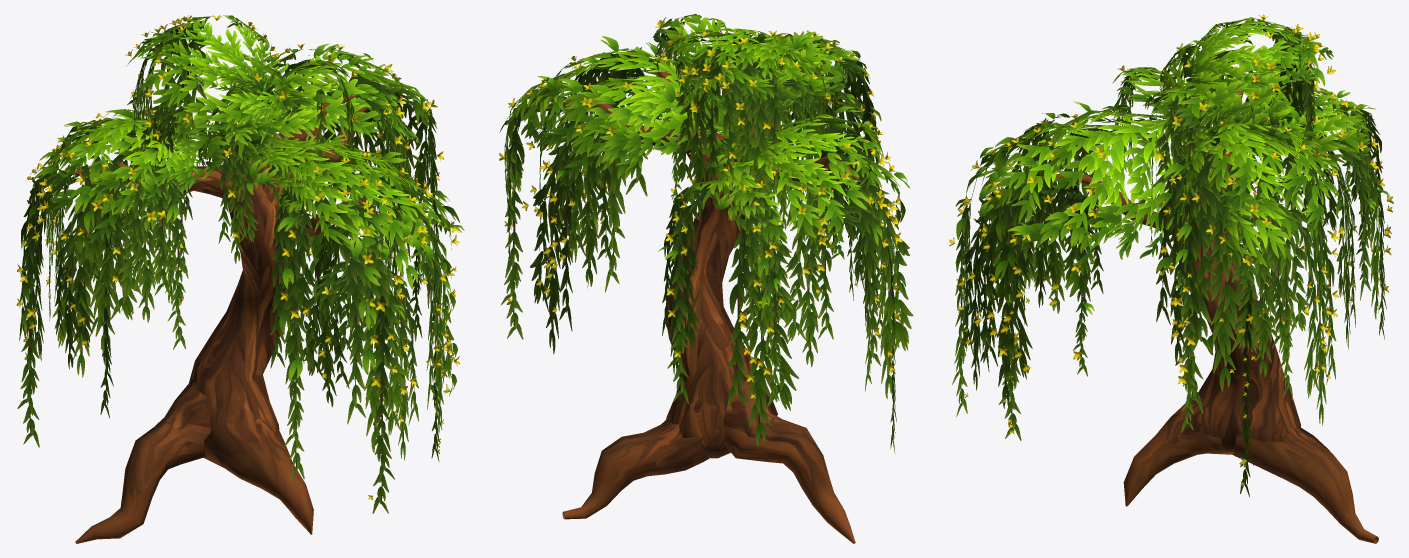
File: SE_Willow_a.fbx
The picture shows the model from 3 angles, left to right: view 1: azimuth 30°, elevation 25°; view 2: azimuth 150°, elevation 25°; view 3: azimuth 270°, elevation 25°; orthographic projection.
Parts seen in each view (by area): view 1: SE_Willow_a; view 2: SE_Willow_a; view 3: SE_Willow_a.
Boxes of the visible parts, box(x1,y1,x2,y2) form: SE_Willow_a: box(16, 15, 464, 543); SE_Willow_a: box(499, 14, 913, 543); SE_Willow_a: box(949, 14, 1393, 543).
Bounding box in the file's own units: 13.72 × 15.25 × 12.88.
